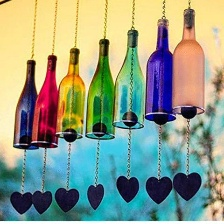bottle: (169, 6, 208, 117), (108, 26, 148, 130), (83, 34, 118, 142), (143, 13, 177, 122), (29, 50, 62, 152), (53, 44, 87, 143), (11, 58, 38, 153)
